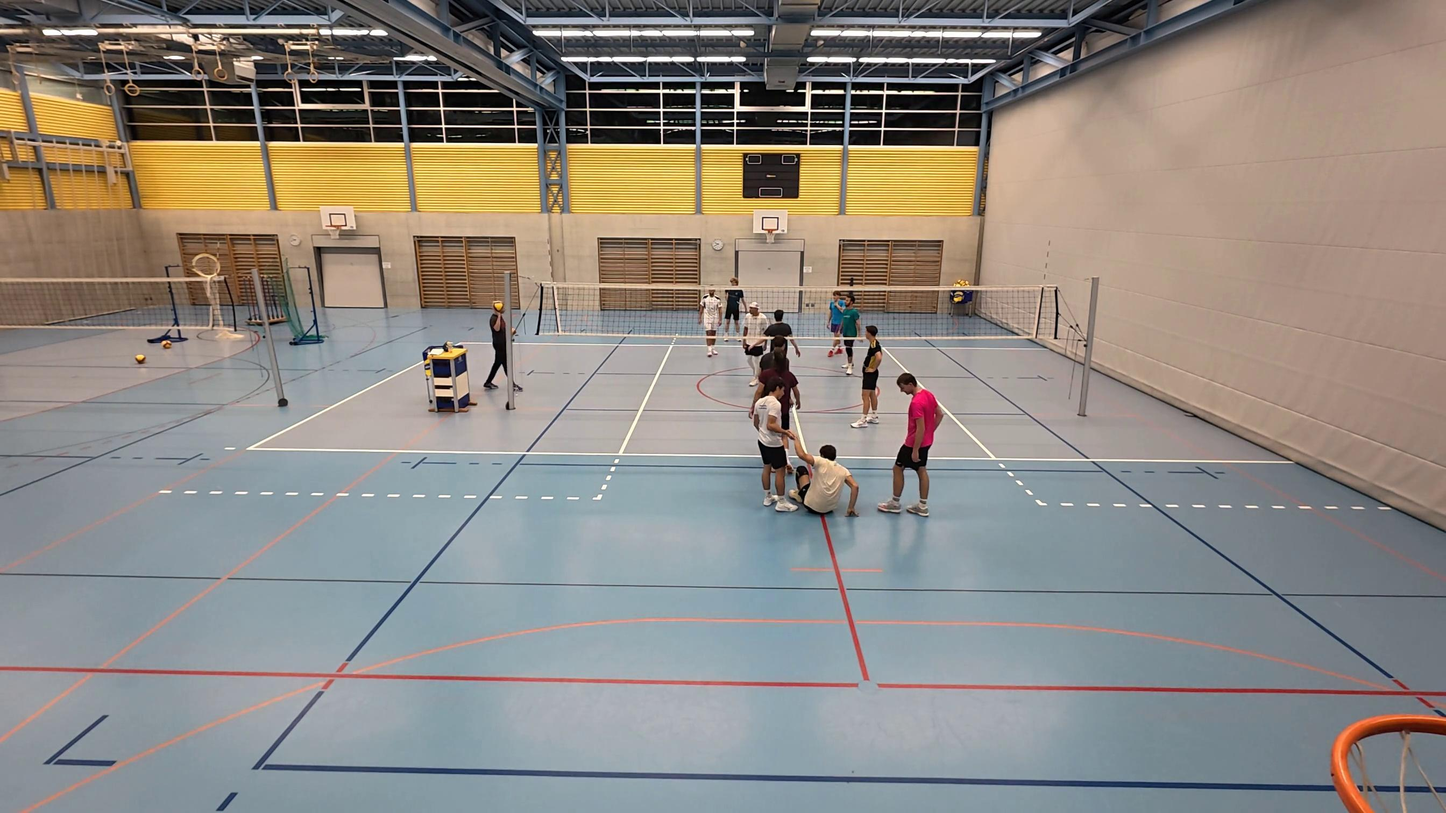Player: (878, 372, 941, 516), (784, 426, 860, 516), (753, 379, 800, 511), (749, 343, 804, 451), (749, 309, 795, 383), (850, 326, 883, 427), (739, 304, 769, 386), (838, 290, 861, 376), (820, 288, 847, 358), (699, 288, 722, 357), (723, 276, 746, 342)
Set: (480, 301, 519, 397)
ball: (490, 300, 504, 312)
